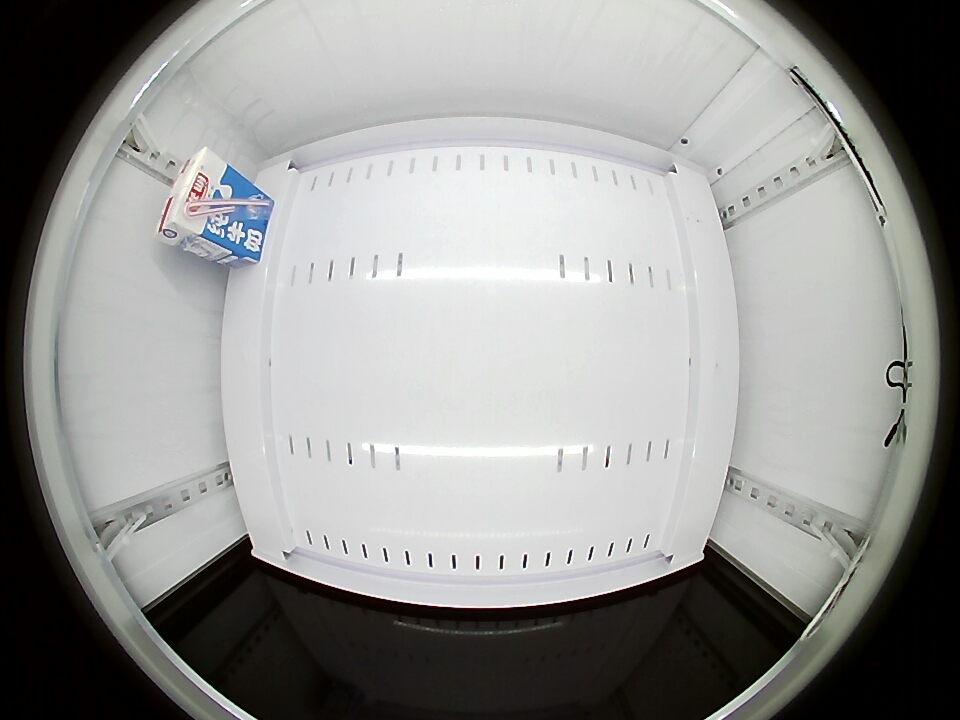niunai: (156, 147, 232, 251)
